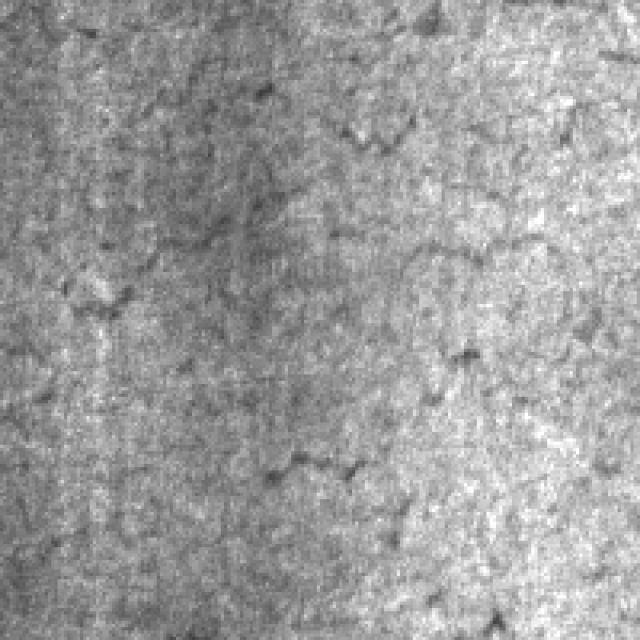crazing: (51, 48, 410, 323), (247, 262, 586, 541)
